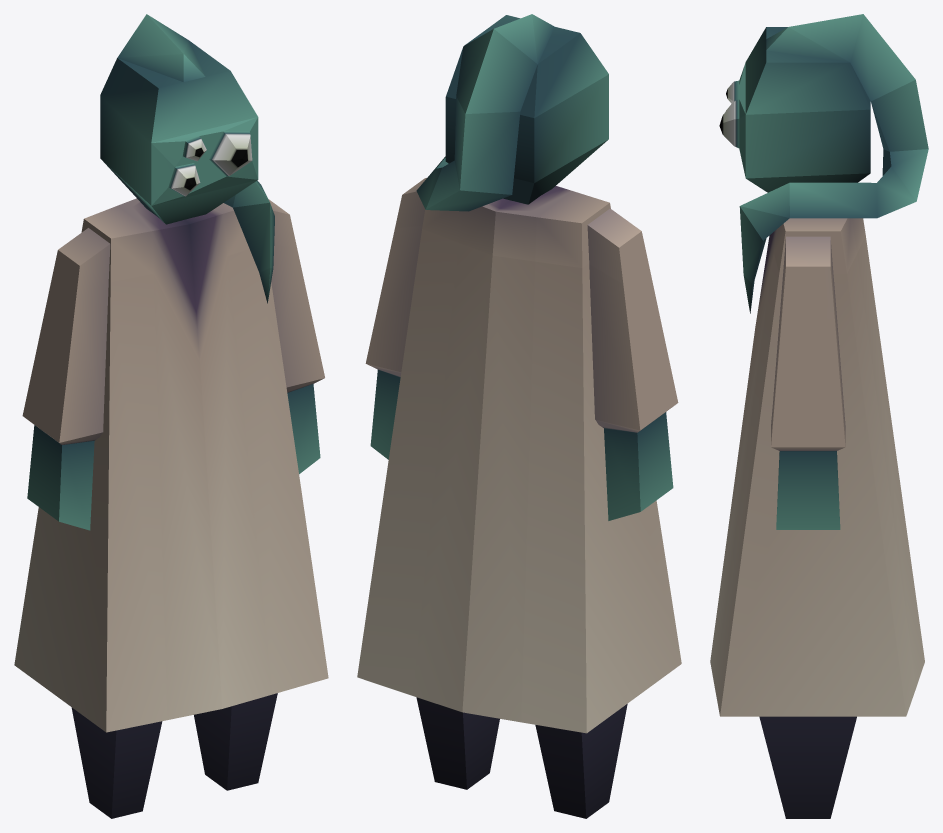
Rendered from adult_female_L.obj.
3 renders of one model, left to right at view 1: azimuth 30°, elevation 25°; view 2: azimuth 150°, elevation 25°; view 3: azimuth 270°, elevation 25°, orthographic. The views are drawn at different scales.
Visible parts, largest first — view 1: adult_body_F_L.001, adult_body_F_L_head.001, adult_body_Arm_Right.001, adult_body_Arm_Left.001, adult_body_Feet_Right.001, adult_body_Feet_Left.001; view 2: adult_body_F_L.001, adult_body_F_L_head.001, adult_body_Arm_Right.001, adult_body_Arm_Left.001, adult_body_Feet_Right.001, adult_body_Feet_Left.001; view 3: adult_body_F_L.001, adult_body_F_L_head.001, adult_body_Arm_Left.001, adult_body_Feet_Left.001.
Boxes of the visible parts, x1,y1,x2,y2 form: adult_body_F_L.001: (14,198,328,732); adult_body_F_L_head.001: (100,14,274,303); adult_body_Arm_Right.001: (22,228,110,530); adult_body_Arm_Left.001: (268,199,324,474); adult_body_Feet_Right.001: (71,707,162,818); adult_body_Feet_Left.001: (194,693,277,790); adult_body_F_L.001: (357,186,681,733); adult_body_F_L_head.001: (416,14,608,211); adult_body_Arm_Right.001: (587,208,678,520); adult_body_Arm_Left.001: (365,178,426,459); adult_body_Feet_Right.001: (535,704,627,818); adult_body_Feet_Left.001: (416,697,499,789); adult_body_F_L.001: (710,218,924,716); adult_body_F_L_head.001: (719,14,928,313); adult_body_Arm_Left.001: (771,236,845,529); adult_body_Feet_Left.001: (759,716,856,818).
Bounding box in the file's own units: 3.17 × 8.65 × 2.23.
